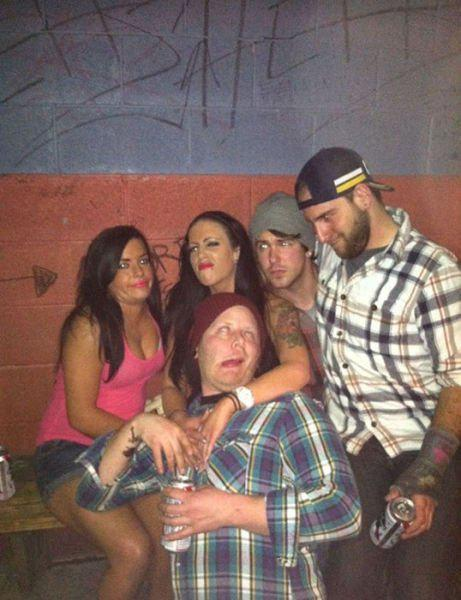Drunk: (207, 309, 261, 386), (104, 227, 155, 302), (253, 220, 304, 289), (303, 199, 361, 258), (189, 219, 231, 283)
